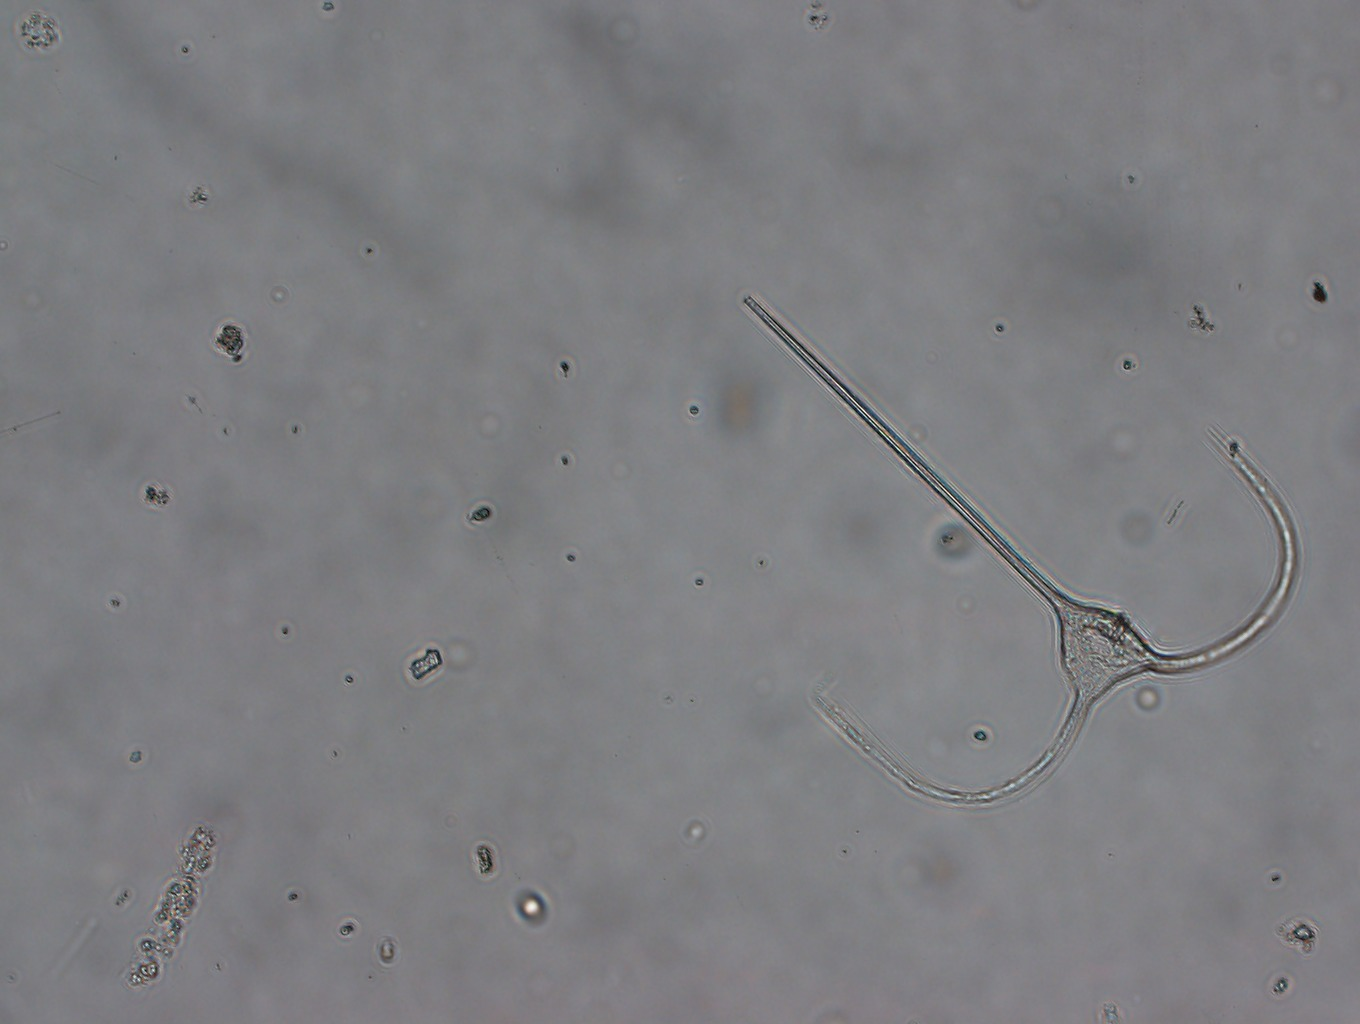ceratium trichoceros: (727, 268, 1305, 817)
